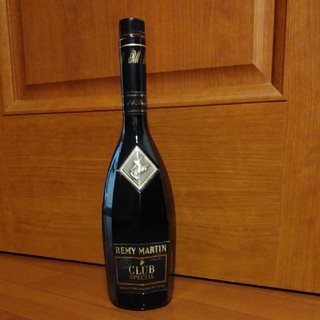Remy Martin: (93, 10, 187, 315)
